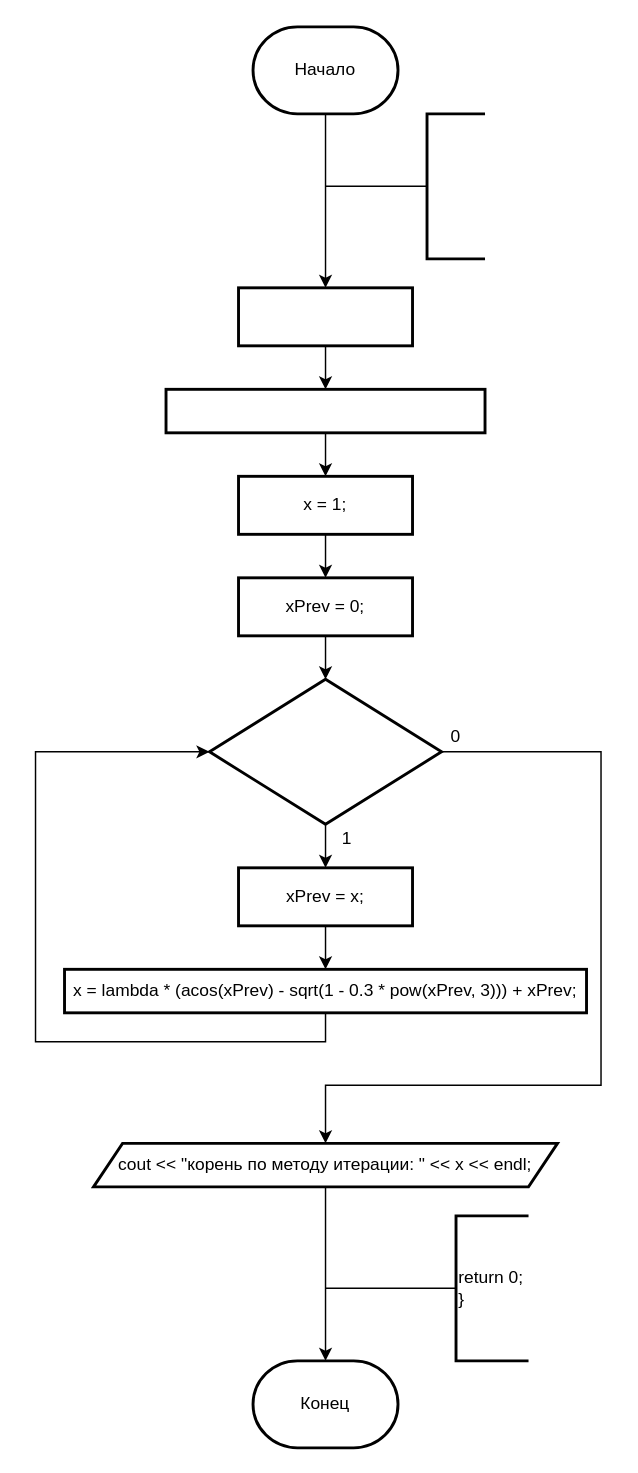
Some shapes in this 638 by 1473 pixel diagram are drawn without their labels. Here are the shapes that lost their labels. From the top down, the centre of each, then its label:
point (455, 186): #include <iostream> #include <cmath> using namespace std; int main(){
point (324, 316): float x, xPrev;
point (325, 410): double eps = 0.000001, lambda = 0.5;
point (324, 751): while (abs(x-xPrev)>eps)
